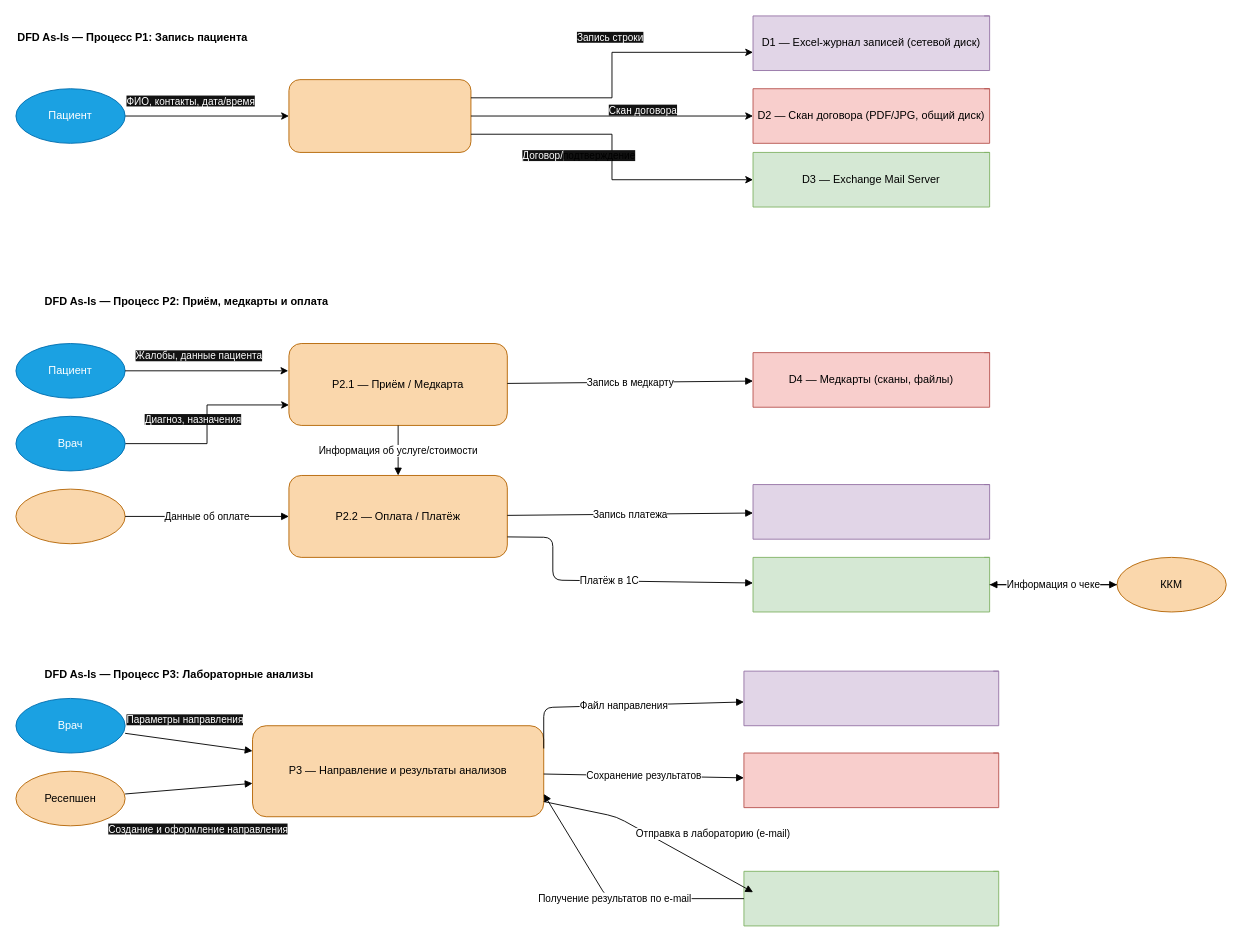
The diagram is 1242 pixels wide and 942 high, and some of its shapes have lost their labels. Each missing label, with the centre of its shape:
"D10 — Exchange Mail (входящие медданные)" goes at [871,898].
"D5 — 1С:Бухгалтерия (файловый режим)" goes at [871,584].
"D6 — Excel учёт платежей" goes at [871,511].
"D7 — Направления (Word/Excel)" goes at [871,698].
"D9 — Результаты анализов (PDF/JPG)" goes at [871,780].
"P1 — Запись на приём" goes at [379,115].
"Кассир" goes at [70,516].
